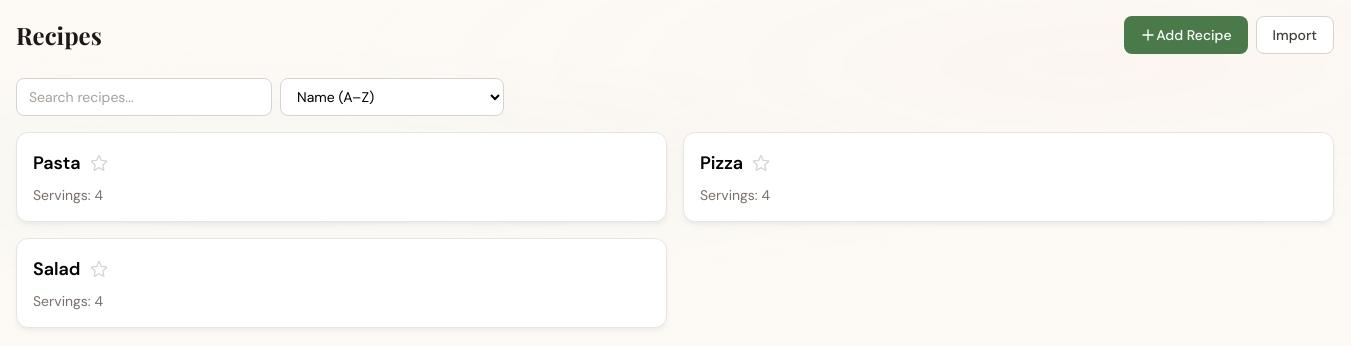
Scenario: RecipeManager › renders recipes and filters the list client-side by search query
This screenshot has width=1351, height=346.
Expected: the button "Pasta" is shown, [33, 149, 80, 177]
Expected: the button "Pizza" is shown, [700, 149, 743, 177]
Search filter is client-side — no network call.
Type "piz" into the field with placeholder "Search recipes..." at (144, 97), box [16, 78, 272, 116]
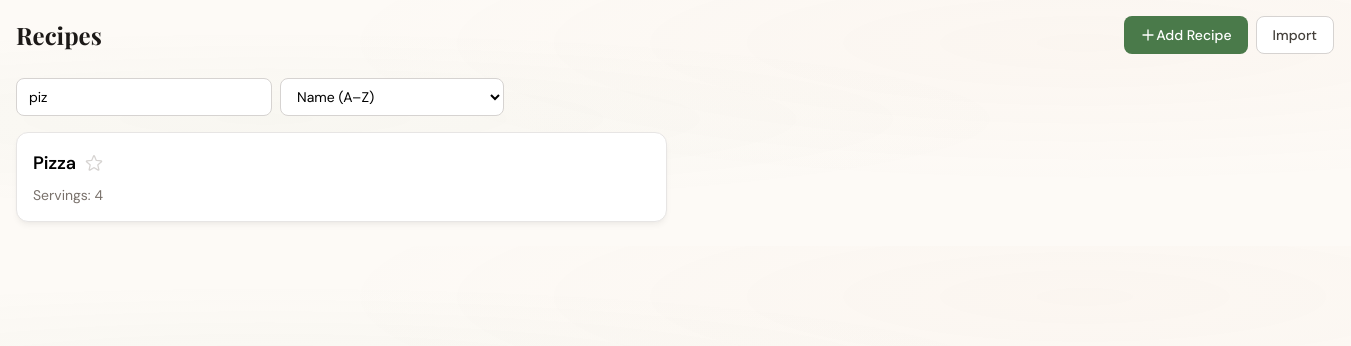
Expected: the button "Pizza" is shown, [33, 149, 76, 177]
Expected: the button "Pasta" is gone
Expected: the button "Salad" is gone
